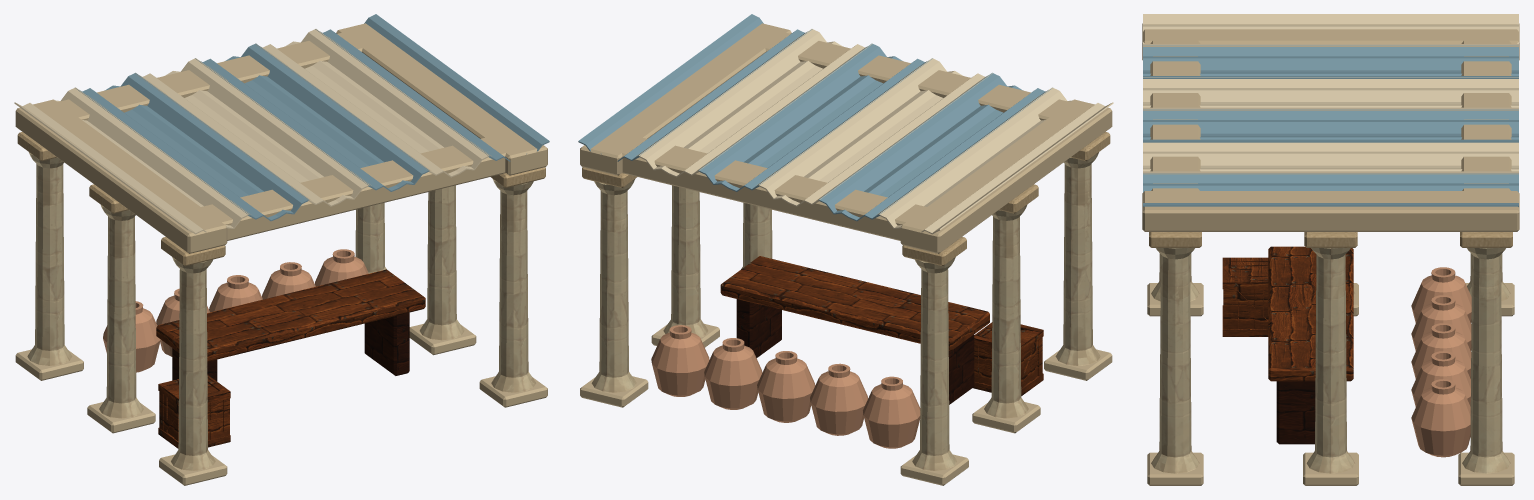
The model's file is market-portico.glb.
The picture shows the model from 3 angles, left to right: view 1: azimuth 30°, elevation 25°; view 2: azimuth 150°, elevation 25°; view 3: azimuth 270°, elevation 25°; orthographic projection. The views are drawn at different scales.
Parts seen in each view (by area): view 1: market-portico|3dtextures-dressed-limestone, market-portico|woven-linen, market-portico|faded-indigo-cloth, market-portico|3dtextures-aged-wood, market-portico|fired-clay, market-portico|3dtextures-oiled-wood, market-portico|3dtextures-limestone-coping; view 2: market-portico|3dtextures-dressed-limestone, market-portico|woven-linen, market-portico|faded-indigo-cloth, market-portico|fired-clay, market-portico|3dtextures-aged-wood, market-portico|3dtextures-oiled-wood, market-portico|3dtextures-limestone-coping; view 3: market-portico|3dtextures-dressed-limestone, market-portico|faded-indigo-cloth, market-portico|woven-linen, market-portico|3dtextures-aged-wood, market-portico|fired-clay, market-portico|3dtextures-limestone-coping, market-portico|3dtextures-oiled-wood.
Part boxes in pixels (left/top/right/bottom): market-portico|3dtextures-dressed-limestone: left=15, top=23, right=547, bottom=485; market-portico|woven-linen: left=14, top=29, right=489, bottom=234; market-portico|faded-indigo-cloth: left=75, top=14, right=549, bottom=221; market-portico|3dtextures-aged-wood: left=156, top=269, right=425, bottom=448; market-portico|fired-clay: left=103, top=249, right=368, bottom=372; market-portico|3dtextures-oiled-wood: left=172, top=312, right=409, bottom=381; market-portico|3dtextures-limestone-coping: left=17, top=132, right=545, bottom=266; market-portico|3dtextures-dressed-limestone: left=580, top=23, right=1112, bottom=485; market-portico|woven-linen: left=638, top=29, right=1113, bottom=234; market-portico|faded-indigo-cloth: left=578, top=14, right=1052, bottom=221; market-portico|fired-clay: left=651, top=325, right=920, bottom=448; market-portico|3dtextures-aged-wood: left=720, top=256, right=1043, bottom=395; market-portico|3dtextures-oiled-wood: left=736, top=299, right=974, bottom=404; market-portico|3dtextures-limestone-coping: left=582, top=132, right=1110, bottom=266; market-portico|3dtextures-dressed-limestone: left=1142, top=23, right=1519, bottom=485; market-portico|faded-indigo-cloth: left=1143, top=45, right=1518, bottom=206; market-portico|woven-linen: left=1143, top=14, right=1518, bottom=174; market-portico|3dtextures-aged-wood: left=1222, top=246, right=1353, bottom=381; market-portico|fired-clay: left=1411, top=267, right=1471, bottom=457; market-portico|3dtextures-limestone-coping: left=1149, top=232, right=1512, bottom=247; market-portico|3dtextures-oiled-wood: left=1276, top=381, right=1315, bottom=444.
Size of the model in its own units: 4.56 by 3.09 by 3.76.
Materials: 7 (4 with a texture image).
